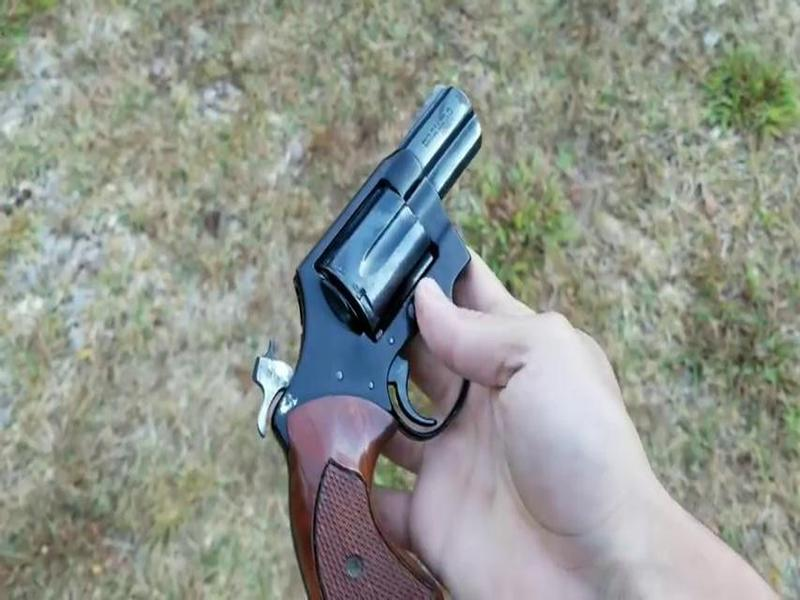Revolver: (243, 78, 500, 595)
